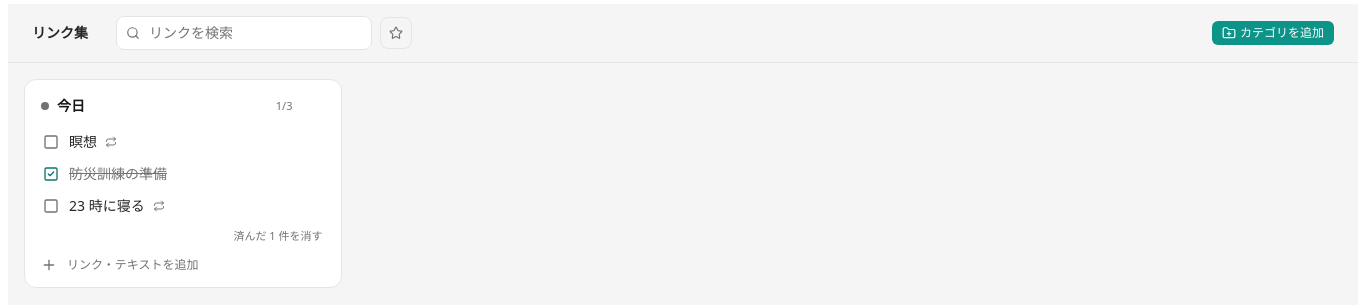
Test: <LinkShelf /> のチェック項目 › チェックの数を見出しに出し、押すとチェックが付く
This screenshot has width=1366, height=305.
Check: the text with test id "check-progress" reads "1/3", box [276,98,292,114]
Click the checkbox named "瞑想".
click(51, 142)  # box [37,128,65,156]
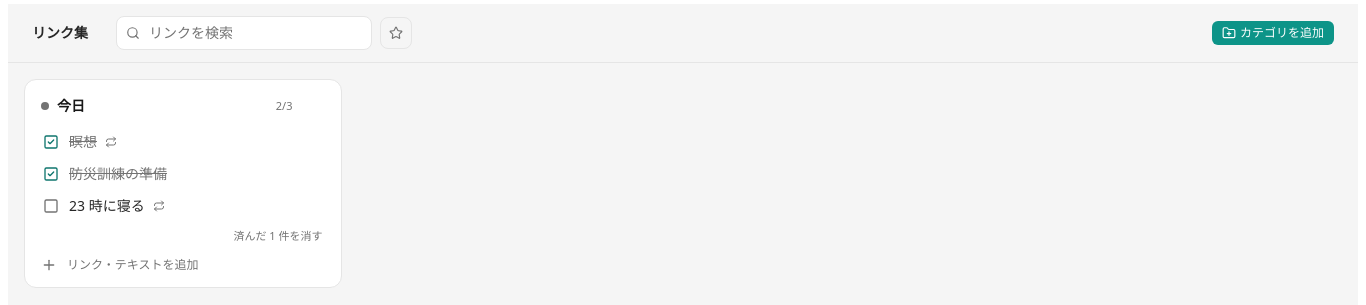
Check: the text with test id "check-progress" reads "2/3", box [276,98,292,114]
